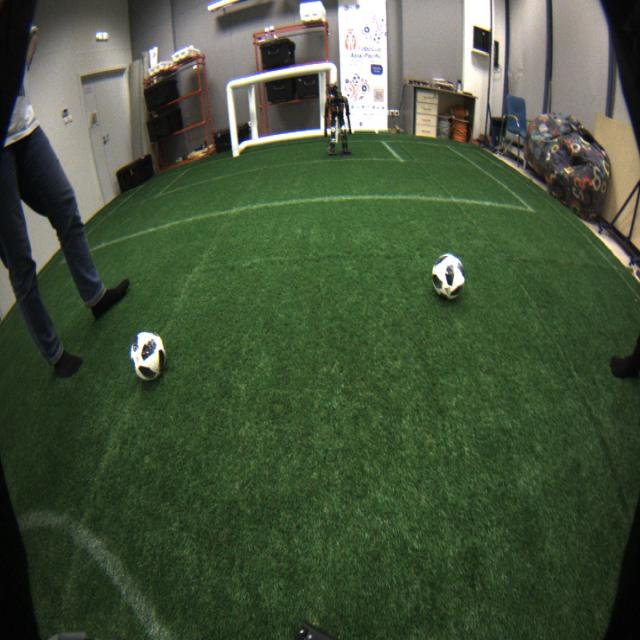ball: (129, 332, 167, 382), (431, 253, 465, 302)
goalpost: (225, 80, 240, 158), (328, 61, 338, 140)
